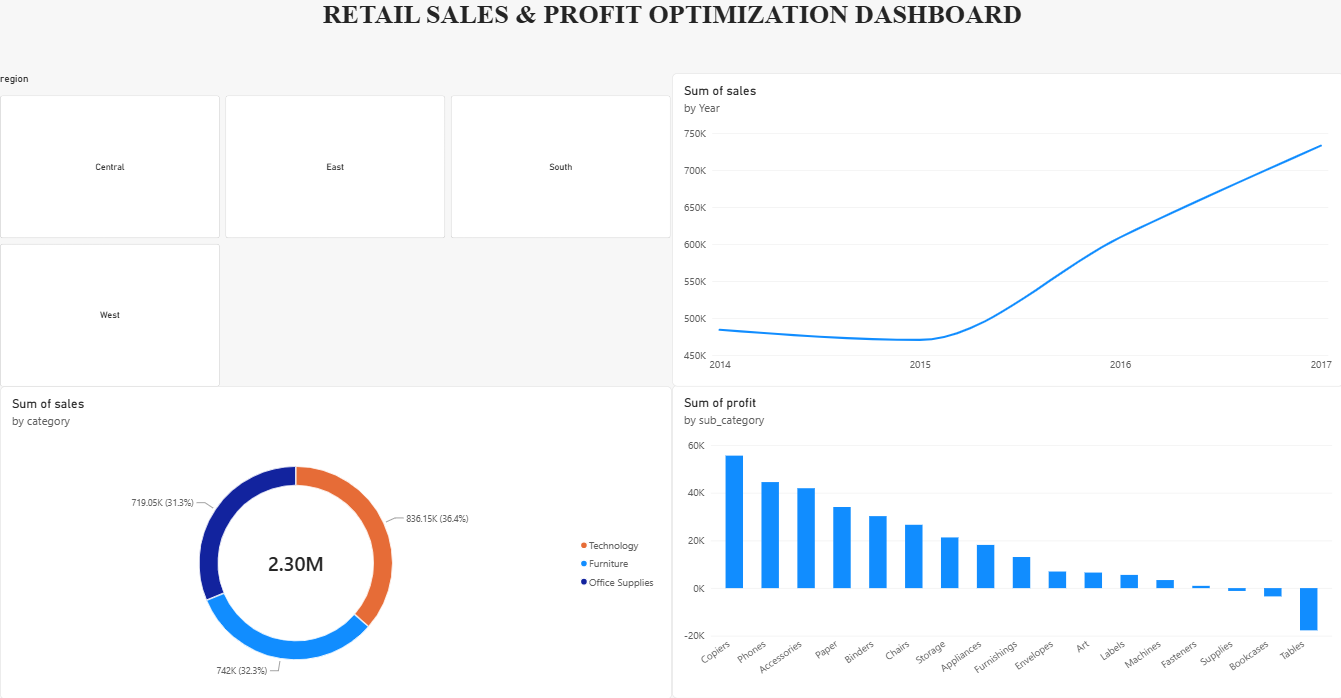

The dashboard page shown, as its layout file describes it:
{"tool":"powerbi","page":{"name":"Page 1","canvas":[1920,1080],"ordinal":0},"visuals":[{"type":"textbox","box":[0,0,1920.6,61.2],"z":0},{"type":"columnChart","fields":{"Category":["public superstore.sub_category"],"Y":["Sum(public superstore.profit)"]},"box":[960,551.2,960.3,448.2],"z":1000},{"type":"lineChart","fields":{"Category":["public superstore.order_date.Variation.Date Hierarchy.Year","public superstore.order_date.Variation.Date Hierarchy.Quarter","public superstore.order_date.Variation.Date Hierarchy.Month","public superstore.order_date.Variation.Date Hierarchy.Day"],"Y":["Sum(public superstore.sales)"]},"box":[960,105,960,448],"z":2000},{"type":"donutChart","fields":{"Category":["public superstore.category"],"Y":["Sum(public superstore.sales)"]},"box":[0,552.5,960,448],"z":3000},{"type":"advancedSlicerVisual","fields":{"Values":["public superstore.region"]},"box":[0,92.5,960.3,448.2],"z":4000}]}

Visuals, with their boxes on the page's 1920x1080 design canvas (x1, y1, x2, y2). These are canvas units, not pixel positions in the 1341x698 screenshot, which may show the page scaled, cropped or inside an application window:
textbox: box(0, 0, 1921, 61)
columnChart - public superstore.sub_category x Sum(public superstore.profit): box(960, 551, 1920, 999)
lineChart - public superstore.order_date.Variation.Date Hierarchy.Year x public superstore.order_date.Variation.Date Hierarchy.Quarter: box(960, 105, 1920, 553)
donutChart - public superstore.category x Sum(public superstore.sales): box(0, 552, 960, 1000)
advancedSlicerVisual - public superstore.region: box(0, 92, 960, 541)
